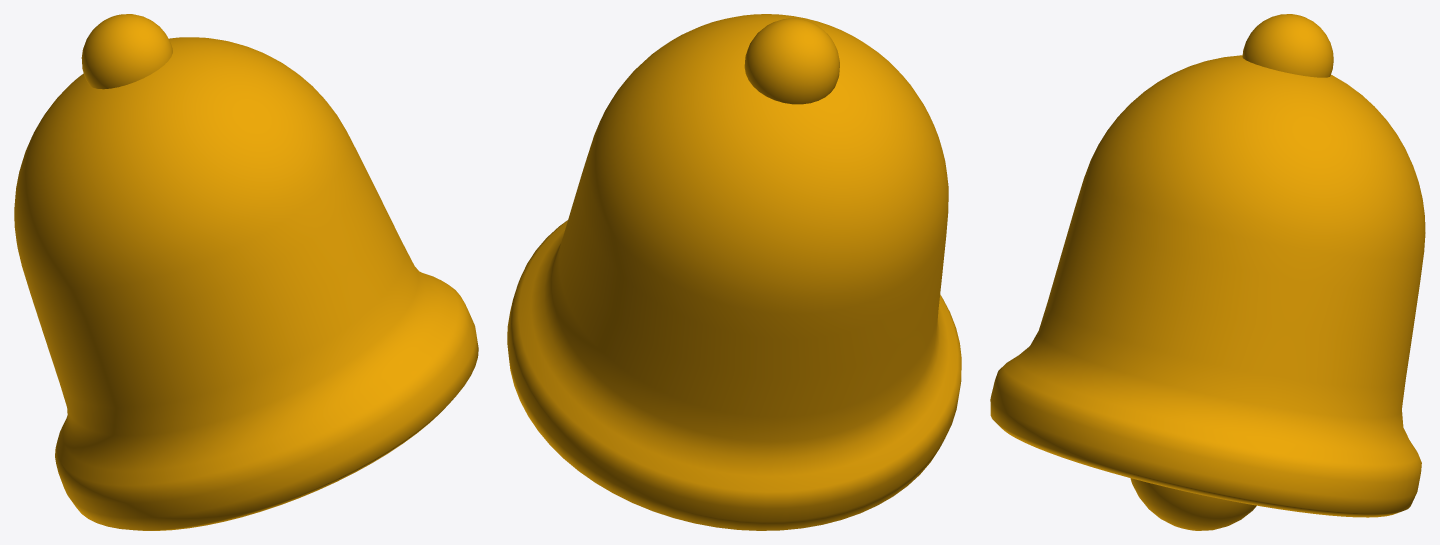
File: goldbell.gltf
3 renders of one model, left to right at view 1: azimuth 30°, elevation 25°; view 2: azimuth 150°, elevation 25°; view 3: azimuth 270°, elevation 25°, orthographic. The views are drawn at different scales.
Visible parts, largest first — view 1: Sphere, Sphere.001; view 2: Sphere, Sphere.001; view 3: Sphere, Sphere.001, Sphere.002.
Part boxes in pixels (<box>): Sphere: <box>14,37,478,530</box>; Sphere.001: <box>81,14,172,89</box>; Sphere: <box>507,14,961,530</box>; Sphere.001: <box>744,18,839,104</box>; Sphere: <box>990,55,1425,517</box>; Sphere.001: <box>1242,14,1333,77</box>; Sphere.002: <box>1130,478,1256,530</box>.
Size of the model in its own units: 1.59 by 1.82 by 1.55.
